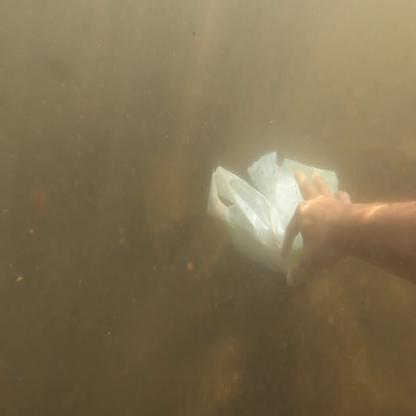Rác: (208, 149, 351, 313)
